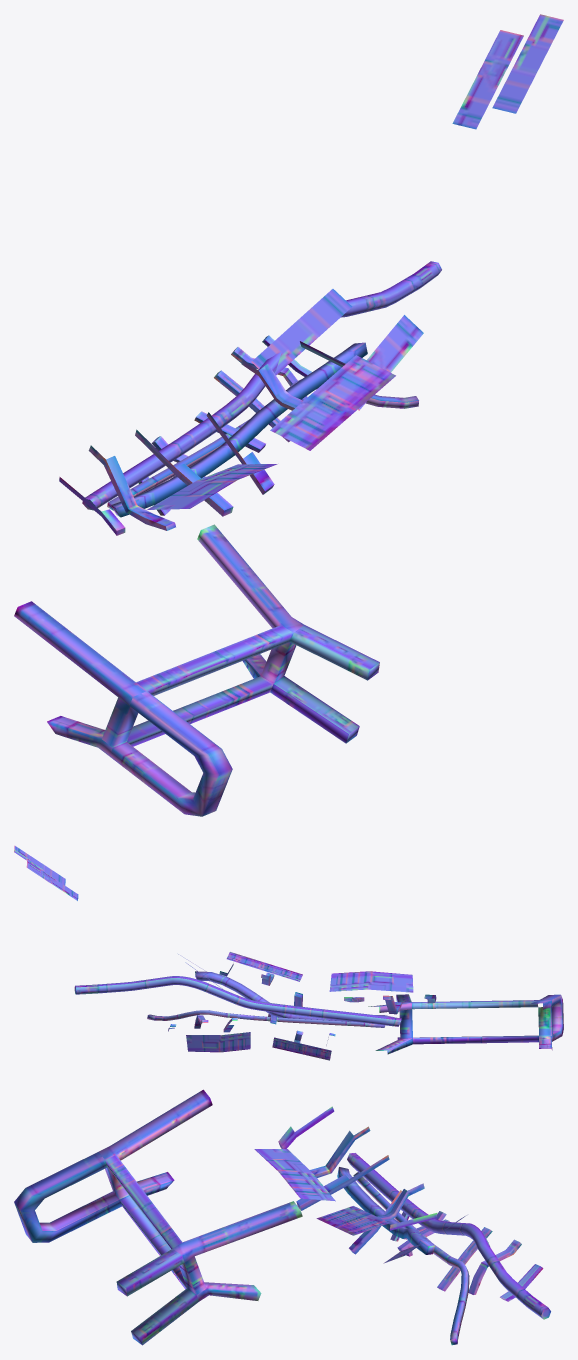
File: ship_wreck_09.glb
The picture shows the model from 3 angles, top to bottom: view 1: azimuth 30°, elevation 25°; view 2: azimuth 150°, elevation 25°; view 3: azimuth 270°, elevation 25°; orthographic projection. The views are drawn at different scales.
Parts seen in each view (by area): view 1: ship_wreck_09_LOD0; view 2: ship_wreck_09_LOD0; view 3: ship_wreck_09_LOD0.
Boxes of the visible parts, x1,y1,x2,y2 form: ship_wreck_09_LOD0: [14, 14, 563, 816]; ship_wreck_09_LOD0: [14, 845, 563, 1060]; ship_wreck_09_LOD0: [14, 1089, 550, 1345].
Size of what is drawn, in the model's own units: 7.78 by 4.22 by 6.17.
Materials: 1 (1 with a texture image).
